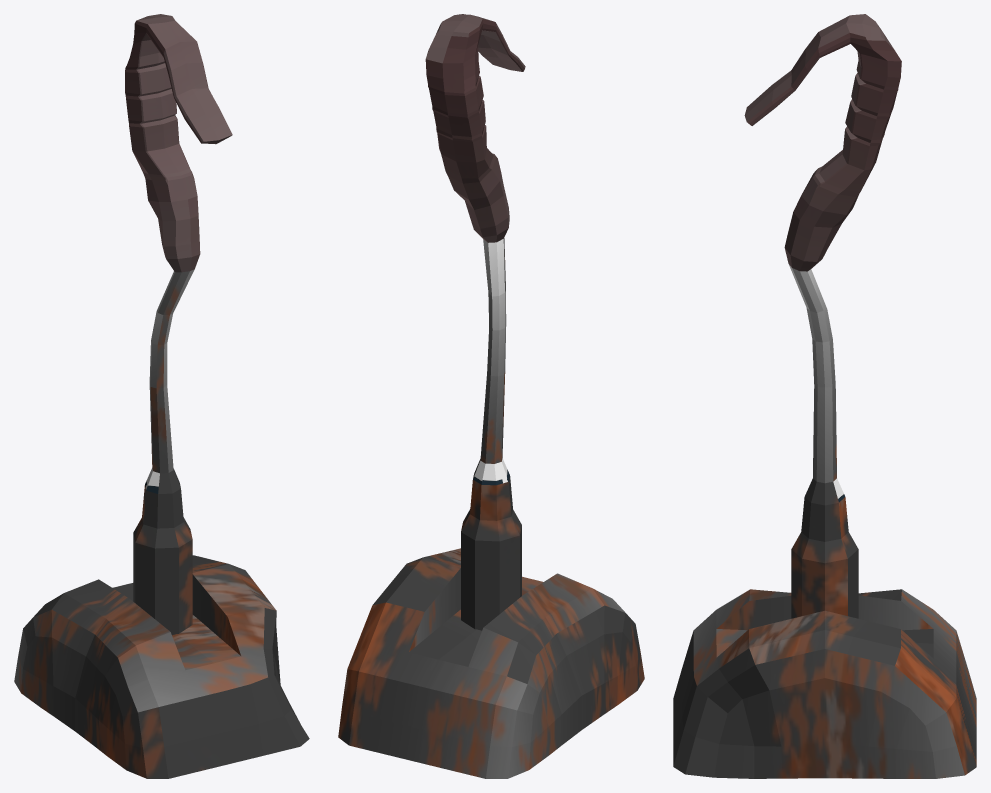
The model's file is lever-Past.fbx.
3 views of the same model, side by side, from view 1: azimuth 30°, elevation 25°; view 2: azimuth 150°, elevation 25°; view 3: azimuth 270°, elevation 25° (orthographic). The views are drawn at different scales.
Parts seen in each view (by area): view 1: Base.001, Handle; view 2: Base.001, Handle; view 3: Base.001, Handle.
Boxes of the visible parts, x1,y1,x2,y2 form: Base.001: (14,555,309,778); Handle: (125,14,232,635); Base.001: (338,548,644,778); Handle: (425,14,525,630); Base.001: (673,589,976,778); Handle: (744,14,901,618).
Bounding box in the file's own units: 13.18 × 47.91 × 18.41.
